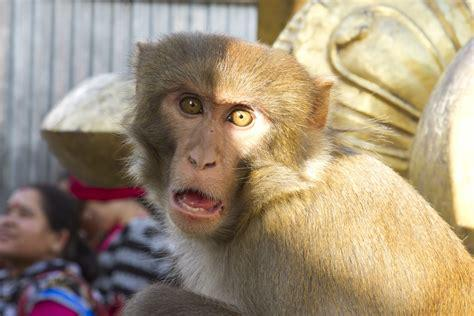monkey: (121, 34, 474, 316)
